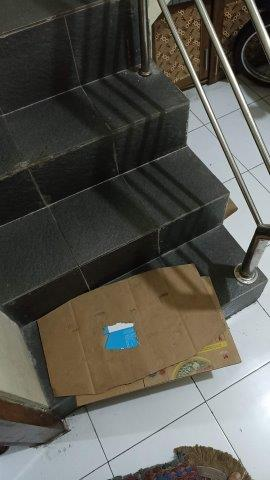kardus: (39, 265, 242, 403)
